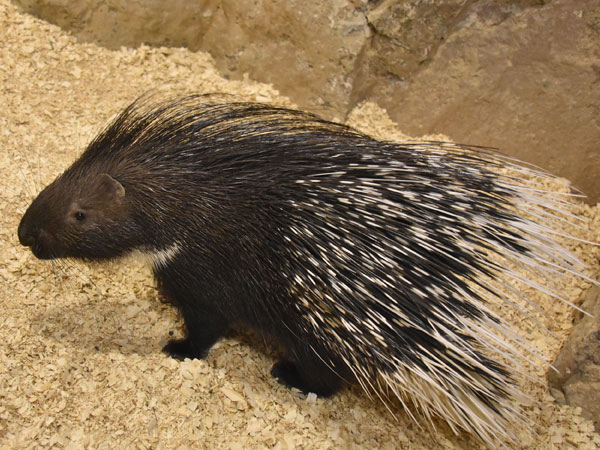porcupine: (15, 85, 593, 440)
